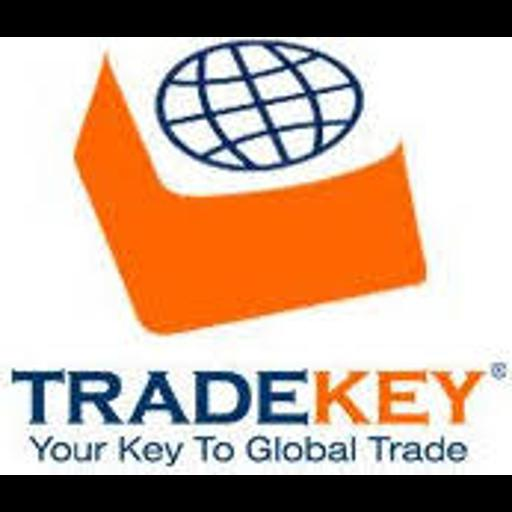TradeKey: (0, 37, 512, 475)
